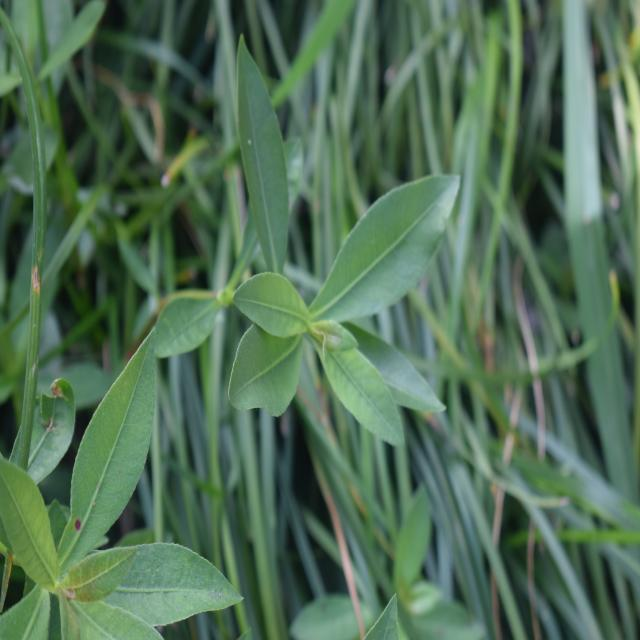Alligatorweed: (215, 43, 467, 459), (0, 313, 227, 639)
